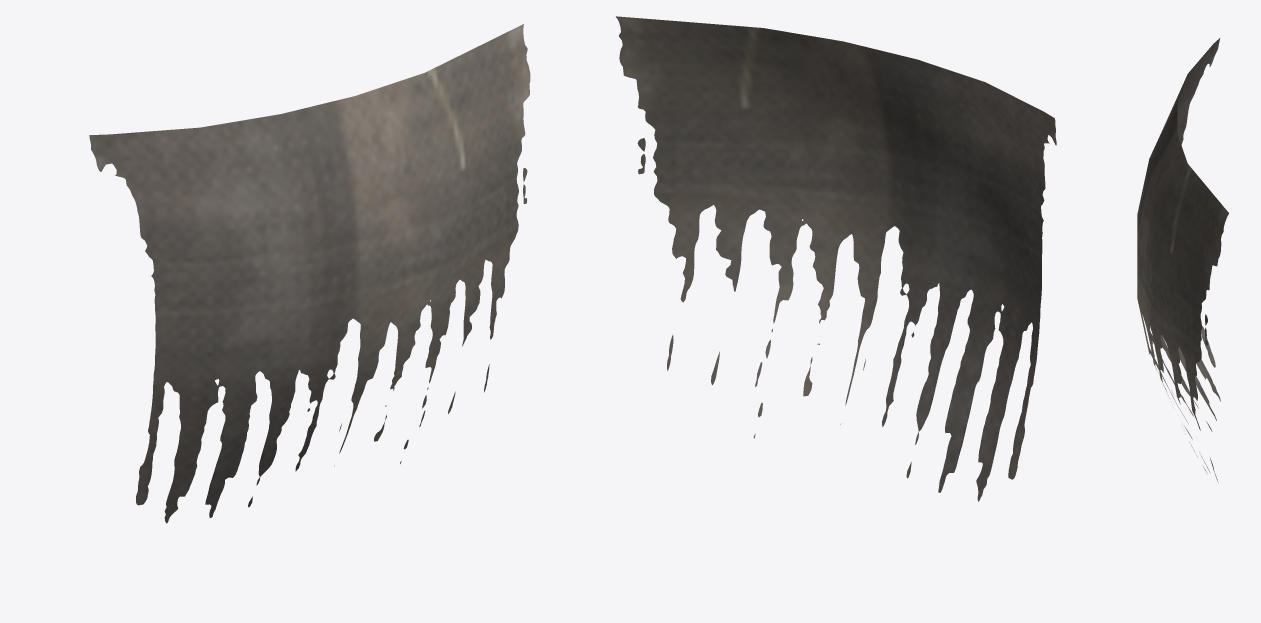
The model's file is Cloth2.fbx.
The picture shows the model from 3 angles, left to right: view 1: azimuth 30°, elevation 25°; view 2: azimuth 150°, elevation 25°; view 3: azimuth 270°, elevation 25°; orthographic projection. The views are drawn at different scales.
Parts seen in each view (by area): view 1: Cloth.010; view 2: Cloth.010; view 3: Cloth.010.
Part boxes in pixels (left/top/right/bottom): Cloth.010: left=89, top=24, right=530, bottom=523; Cloth.010: left=616, top=16, right=1056, bottom=501; Cloth.010: left=1137, top=38, right=1228, bottom=482.
Bounding box in the file's own units: 48.34 × 41.53 × 10.65.
